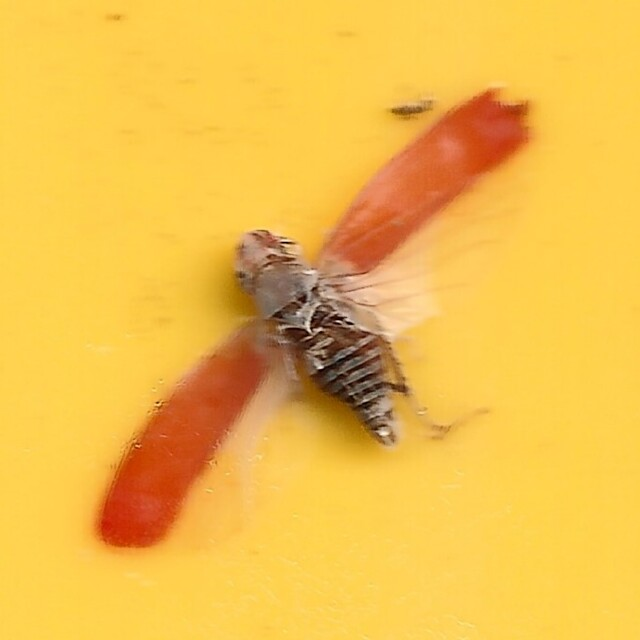Hemiptera: (95, 85, 545, 555)
